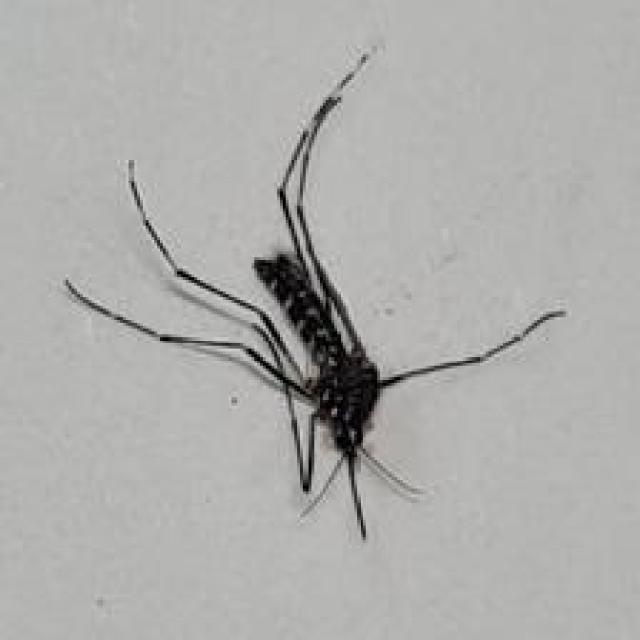Aedes albopictus: (63, 44, 568, 542)
